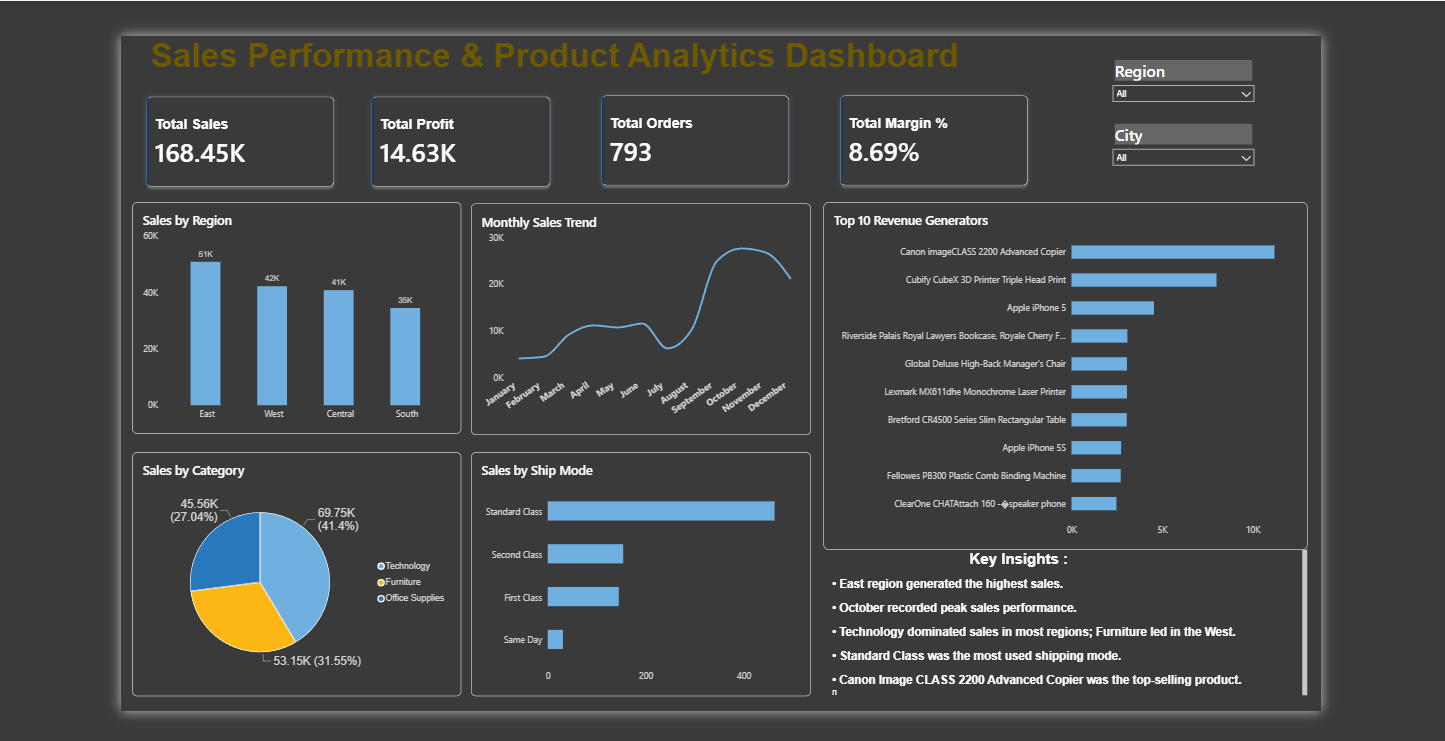

The dashboard page shown, as its layout file describes it:
{"tool":"powerbi","page":{"name":"Dashboard","canvas":[1920,1080],"ordinal":6},"visuals":[{"type":"textbox","box":[18,0,1520,110],"z":0},{"type":"barChart","title":"Sales by Ship Mode","fields":{"Category":["Sample - Superstore.Ship Mode"],"Y":["CountNonNull(Sample - Superstore.Product ID)"]},"box":[560,666,544,390],"z":1000},{"type":"clusteredColumnChart","title":"Sales by Region","fields":{"Category":["Sample - Superstore.Region"],"Y":["Sum(Sample - Superstore.Sales)"]},"box":[18,266,526,370],"z":2000},{"type":"pieChart","title":"Sales by Category","fields":{"Category":["Sample - Superstore.Category"],"Y":["Sum(Sample - Superstore.Sales)"]},"box":[18,666,526,390],"z":3000},{"type":"slicer","fields":{"Values":["Sample - Superstore.City"]},"box":[1582,140,236,82],"z":4000},{"type":"slicer","fields":{"Values":["Sample - Superstore.Region"]},"box":[1582,38,236,72],"z":5000},{"type":"lineChart","title":"Monthly Sales Trend ","fields":{"Category":["Superstore.Order Date.Variation.Date Hierarchy.Month"],"Y":["Sum(Sample - Superstore.Sales)"]},"box":[560,268,544,370],"z":6000},{"type":"clusteredBarChart","title":"Top 10 Revenue Generators","fields":{"Category":["Superstore.Product Name"],"Y":["Sum(Superstore.Sales)"]},"box":[1124,266,774,556],"z":7000},{"type":"cardVisual","fields":{"Data":["Sum(Superstore.Sales)"]},"box":[30,86,322,166],"z":8000},{"type":"cardVisual","fields":{"Data":["Sum(Superstore.Profit)"]},"box":[390,86,308,166],"z":9000},{"type":"cardVisual","fields":{"Data":["CountNonNull(Superstore.Order ID)"]},"box":[758,84,322,166],"z":10000},{"type":"cardVisual","fields":{"Data":["Superstore.Total Margines %"]},"box":[1140,84,322,166],"z":11000},{"type":"textbox","box":[1138,822,760,234],"z":12000}]}

Visuals, with their boxes on the page's 1920x1080 design canvas (x1, y1, x2, y2). These are canvas units, not pixel positions in the 1445x741 screenshot, which may show the page scaled, cropped or inside an application window:
textbox: detection(18, 0, 1538, 110)
"Sales by Ship Mode" barChart: detection(560, 666, 1104, 1056)
"Sales by Region" clusteredColumnChart: detection(18, 266, 544, 636)
"Sales by Category" pieChart: detection(18, 666, 544, 1056)
slicer - Sample - Superstore.City: detection(1582, 140, 1818, 222)
slicer - Sample - Superstore.Region: detection(1582, 38, 1818, 110)
"Monthly Sales Trend " lineChart: detection(560, 268, 1104, 638)
"Top 10 Revenue Generators" clusteredBarChart: detection(1124, 266, 1898, 822)
cardVisual - Sum(Superstore.Sales): detection(30, 86, 352, 252)
cardVisual - Sum(Superstore.Profit): detection(390, 86, 698, 252)
cardVisual - CountNonNull(Superstore.Order ID): detection(758, 84, 1080, 250)
cardVisual - Superstore.Total Margines %: detection(1140, 84, 1462, 250)
textbox: detection(1138, 822, 1898, 1056)
